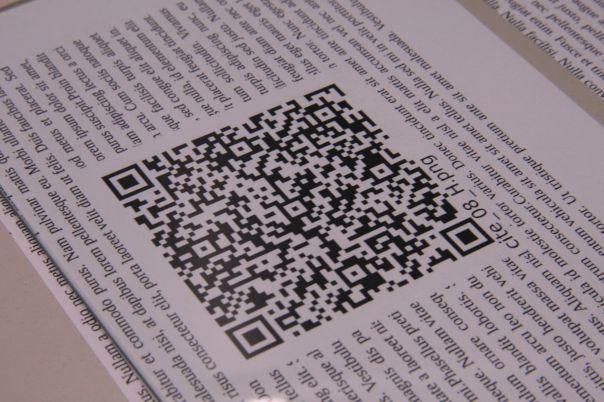Finder pattern: (226, 314, 281, 358), (438, 219, 495, 257), (101, 162, 154, 202)
